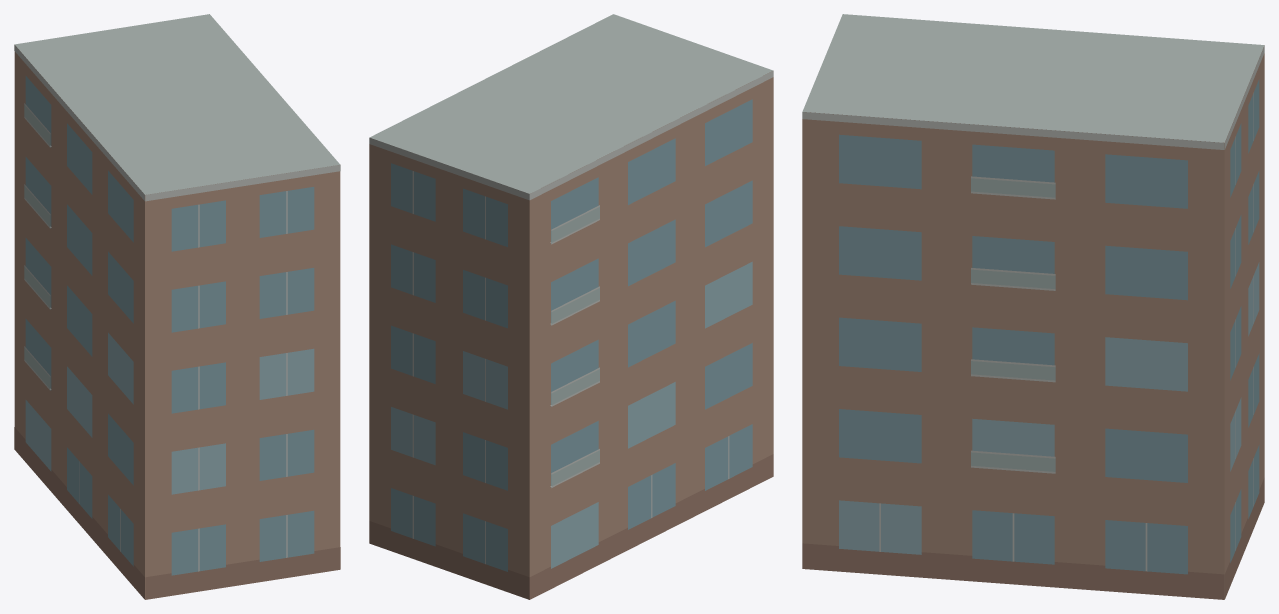
File: survey-upis-32714799.glb
The picture shows the model from 3 angles, left to right: view 1: azimuth 30°, elevation 25°; view 2: azimuth 150°, elevation 25°; view 3: azimuth 270°, elevation 25°; orthographic projection. The views are drawn at different scales.
Visible parts, largest first — view 1: survey-upis-32714799.tmp; view 2: survey-upis-32714799.tmp; view 3: survey-upis-32714799.tmp.
Part boxes in pixels (x1,y1,x2,y2): survey-upis-32714799.tmp: [14, 14, 340, 599]; survey-upis-32714799.tmp: [369, 14, 773, 599]; survey-upis-32714799.tmp: [802, 14, 1264, 599].
Bounding box in the file's own units: 9.23 × 15.25 × 13.99.
